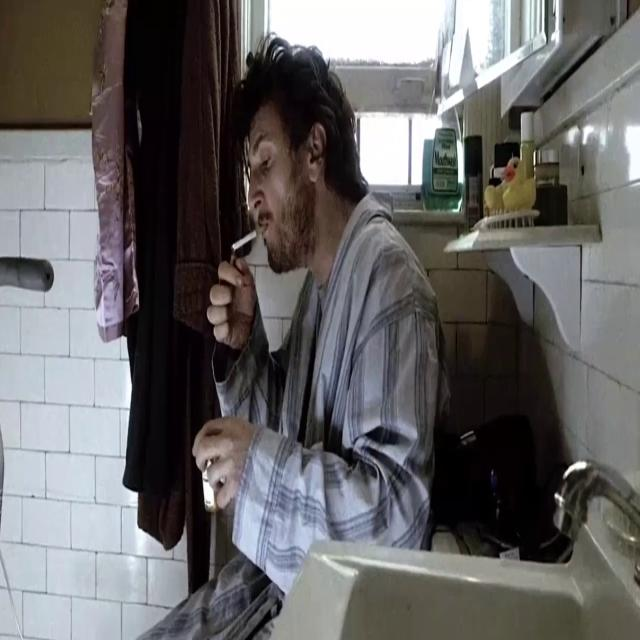Smooking: (226, 221, 266, 253)
